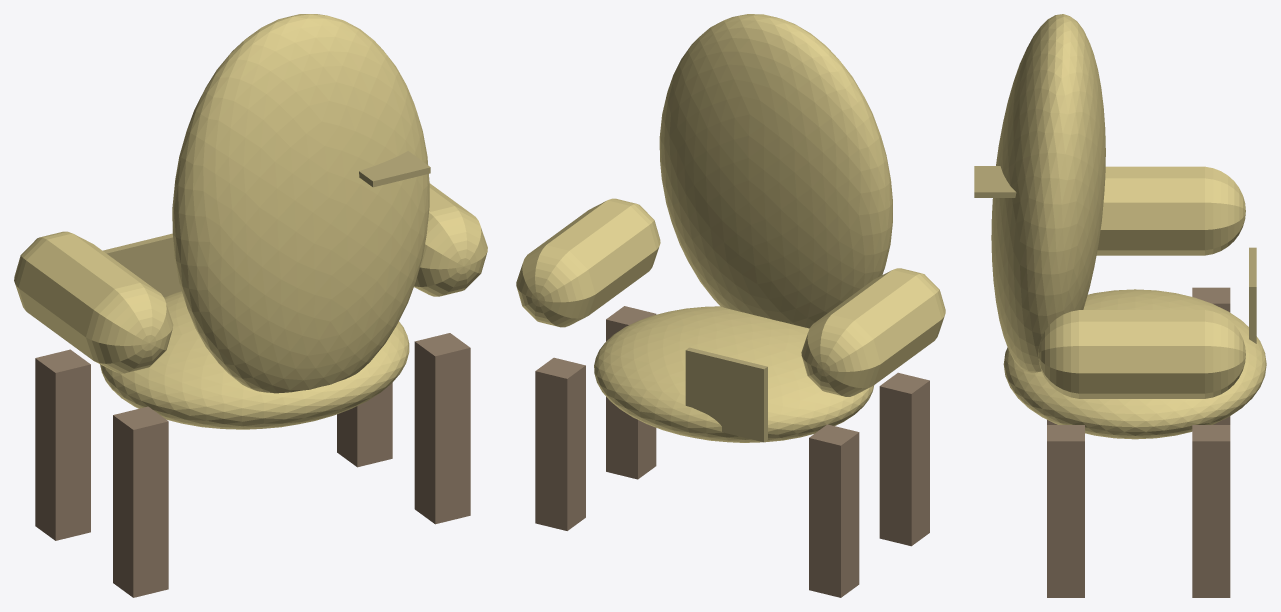
The model's file is papa-chair.glb.
3 views of the same model, side by side, from view 1: azimuth 30°, elevation 25°; view 2: azimuth 150°, elevation 25°; view 3: azimuth 270°, elevation 25° (orthographic). The views are drawn at different scales.
Visible parts, largest first — view 1: back, seat, arm-1, leg_1_0.2, leg_-1_0.2, leg_-1_-0.22, arm1, leg_1_-0.22, seatPatch, backTear; view 2: back, seat, arm1, arm-1, leg_-1_-0.22, leg_-1_0.2, leg_1_-0.22, seatPatch, leg_1_0.2; view 3: back, arm1, arm-1, seat, leg_1_-0.22, leg_1_0.2, backTear, leg_-1_-0.22, seatPatch.
Part boxes in pixels (x1,y1,x2,y2): back: [172, 14, 429, 393]; seat: [100, 291, 409, 429]; arm-1: [14, 231, 173, 373]; leg_1_0.2: [414, 333, 470, 524]; leg_-1_0.2: [113, 406, 168, 597]; leg_-1_-0.22: [35, 349, 90, 540]; arm1: [414, 183, 487, 296]; leg_1_-0.22: [337, 383, 392, 467]; seatPatch: [103, 233, 181, 297]; backTear: [359, 151, 430, 187]; back: [659, 14, 892, 328]; seat: [594, 306, 873, 442]; arm1: [516, 198, 660, 327]; arm-1: [801, 268, 945, 396]; leg_-1_-0.22: [809, 424, 859, 597]; leg_-1_0.2: [879, 372, 929, 546]; leg_1_-0.22: [535, 357, 585, 530]; seatPatch: [685, 347, 767, 442]; leg_1_0.2: [606, 306, 656, 479]; back: [991, 14, 1105, 372]; arm1: [1038, 310, 1245, 398]; arm-1: [1096, 166, 1245, 255]; seat: [1003, 289, 1266, 439]; leg_1_-0.22: [1192, 425, 1230, 597]; leg_1_0.2: [1047, 425, 1084, 597]; backTear: [974, 166, 1016, 197]; leg_-1_-0.22: [1192, 287, 1230, 424]; seatPatch: [1249, 247, 1256, 343].
Bounding box in the file's own units: 1.24 × 1.59 × 0.845.
